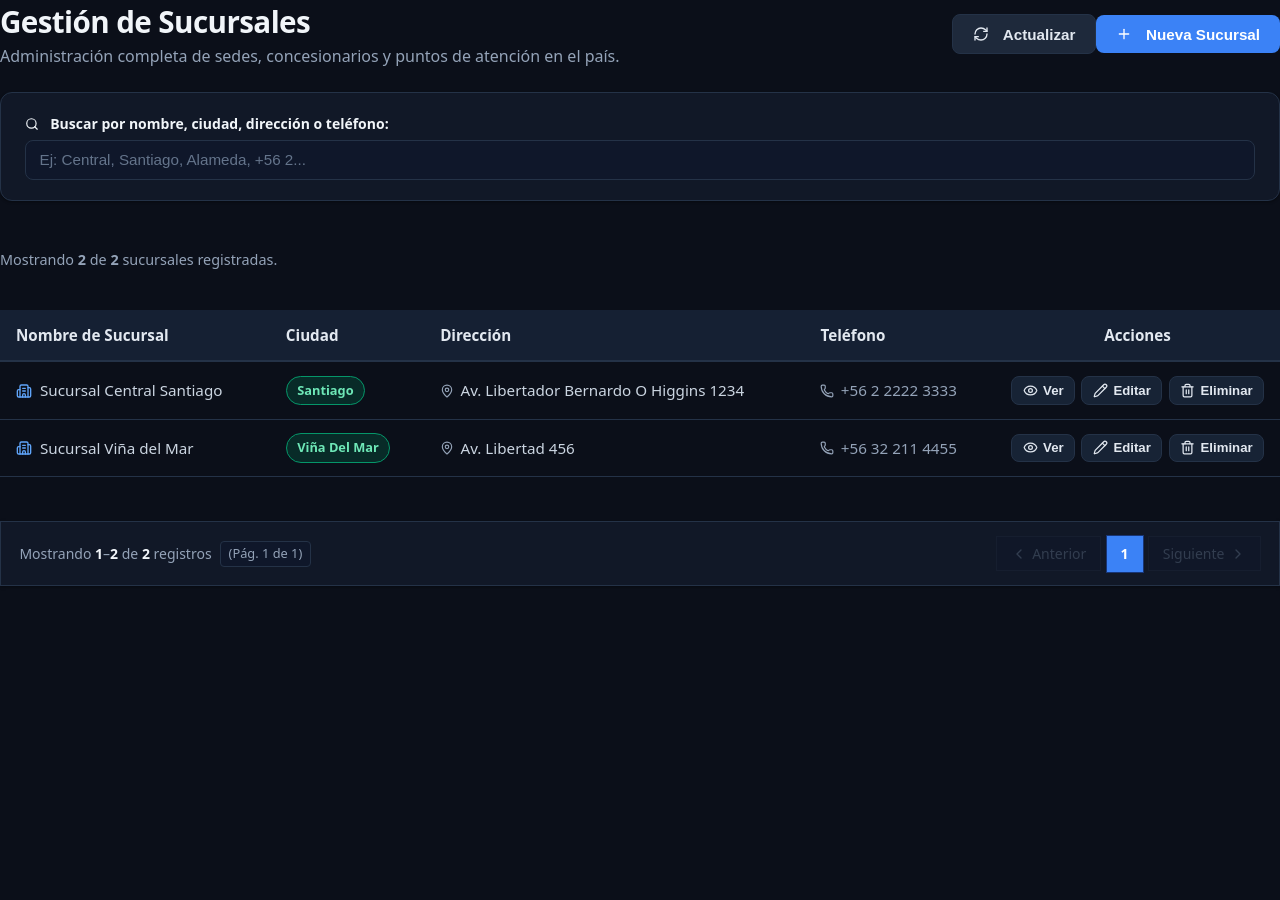
it: Módulo CRUD de Sucursales (SucursalesPage.tsx) › permite a un usuario Admin abrir el modal de edición y actualizar los datos
The width and height of the screenshot is (1280, 900).
Expected: the text "Sucursal Central Santiago" is shown, [40,379,222,402]
Click the button with aria-label "editar sucursal central santiago" at (1122, 391), box [1081,376,1162,405]
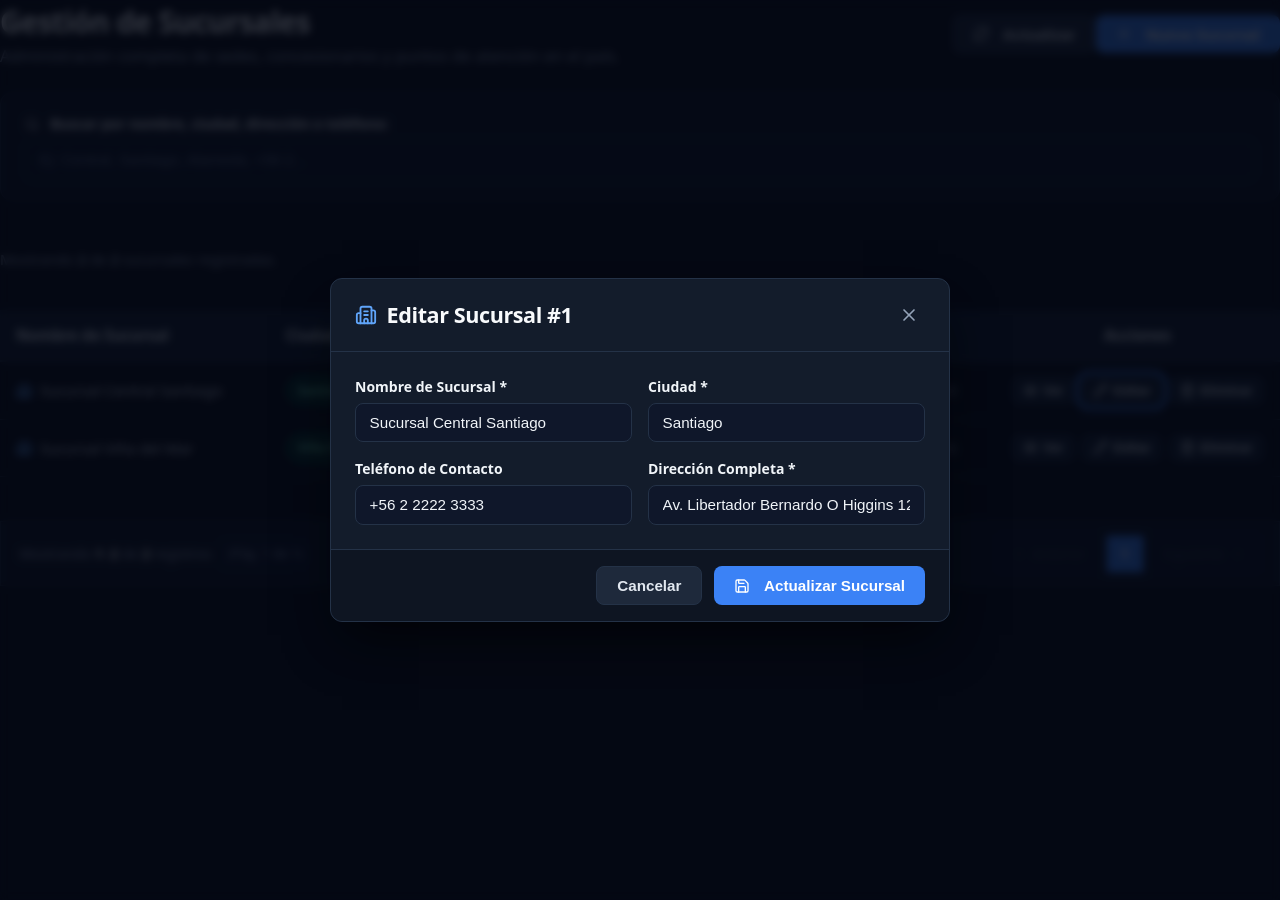
Now the heading "Editar Sucursal #1" is shown, box [387,298,572,331]
Replace the text in the field labelled "Nombre de Sucursal *" with "Sucursal Central Santiago Modificada" at (494, 422), box [355,402,632,442]
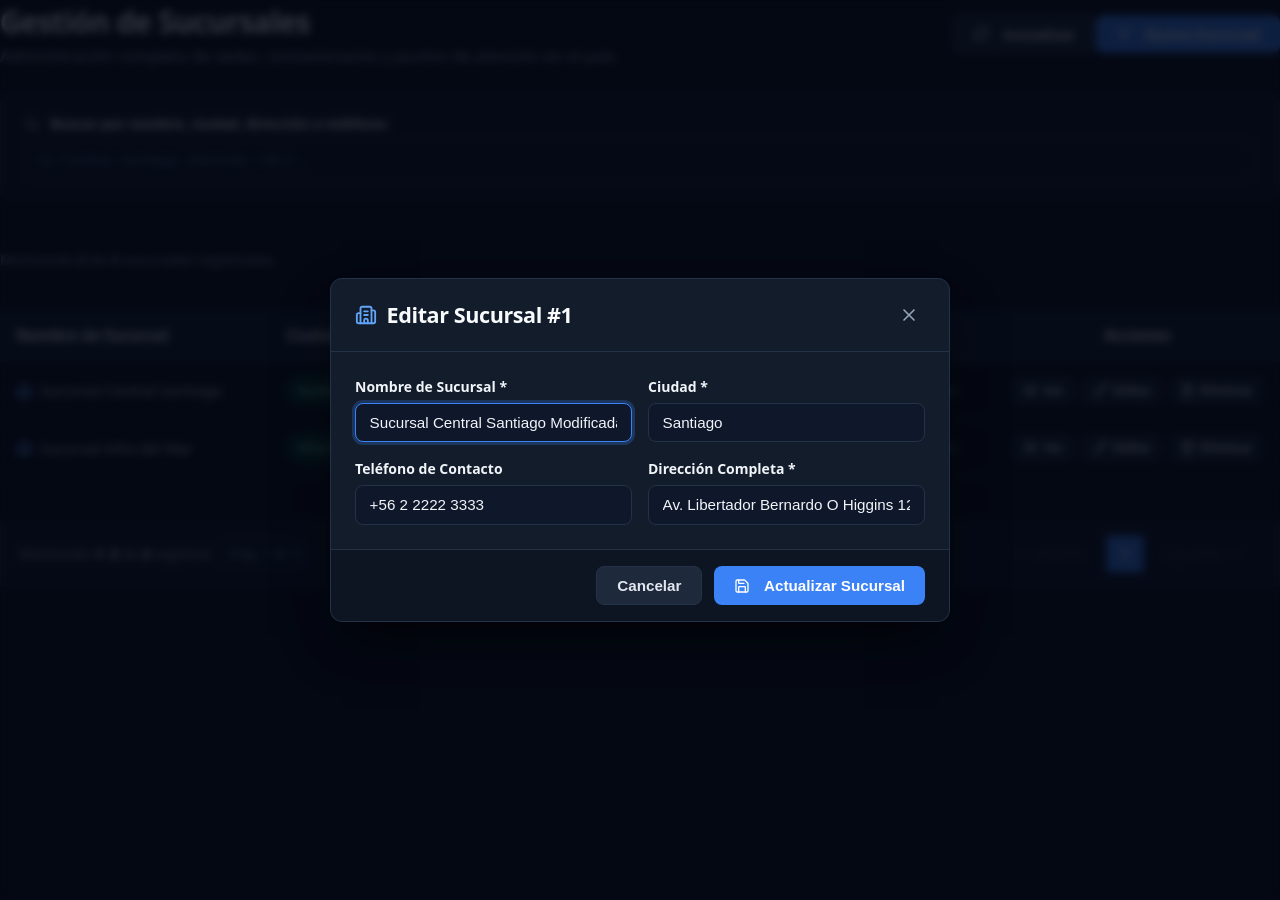
Click the button "Actualizar Sucursal" at (820, 586), box [714,566,925,606]
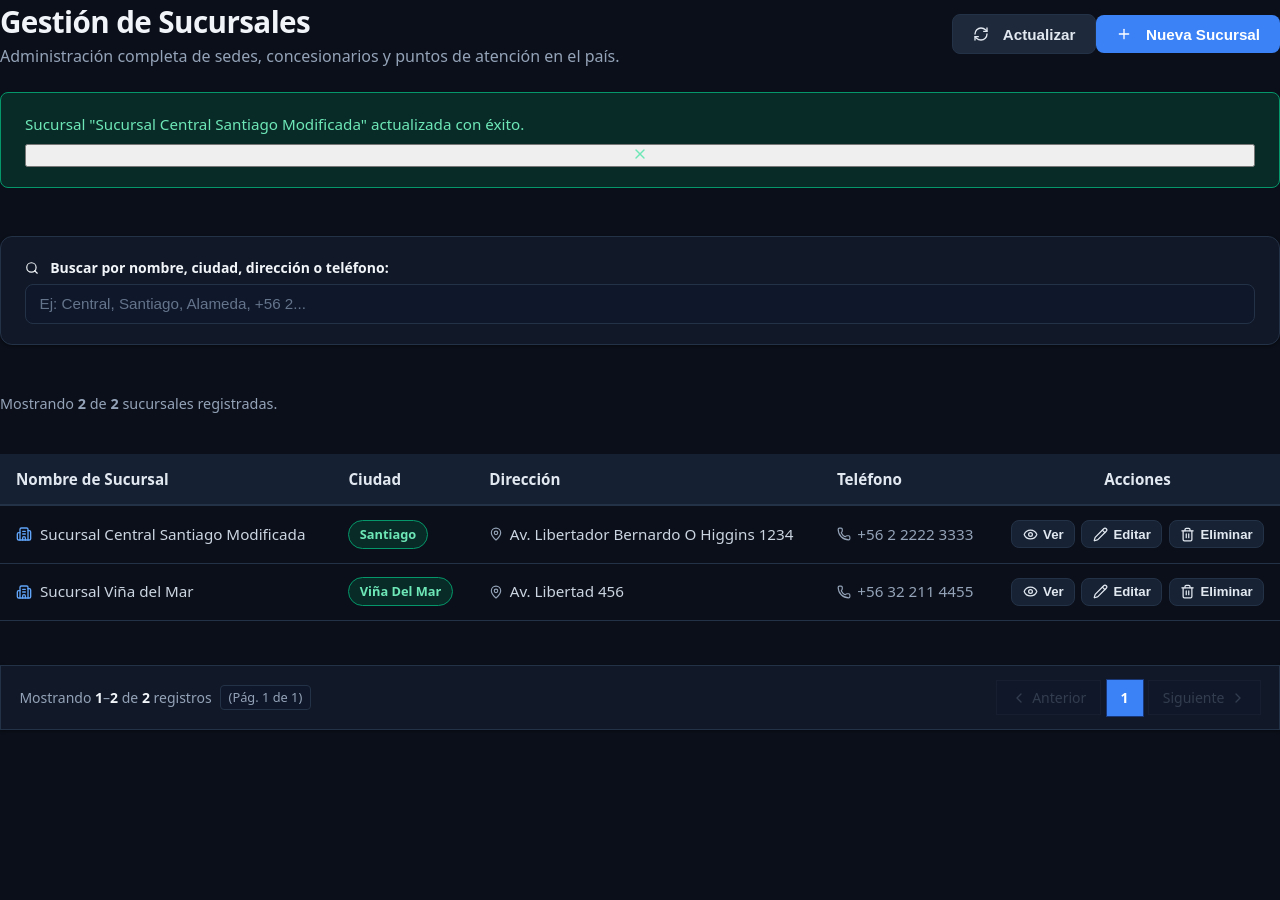
Now the text "actualizada con éxito" is shown, box [25,114,524,134]
